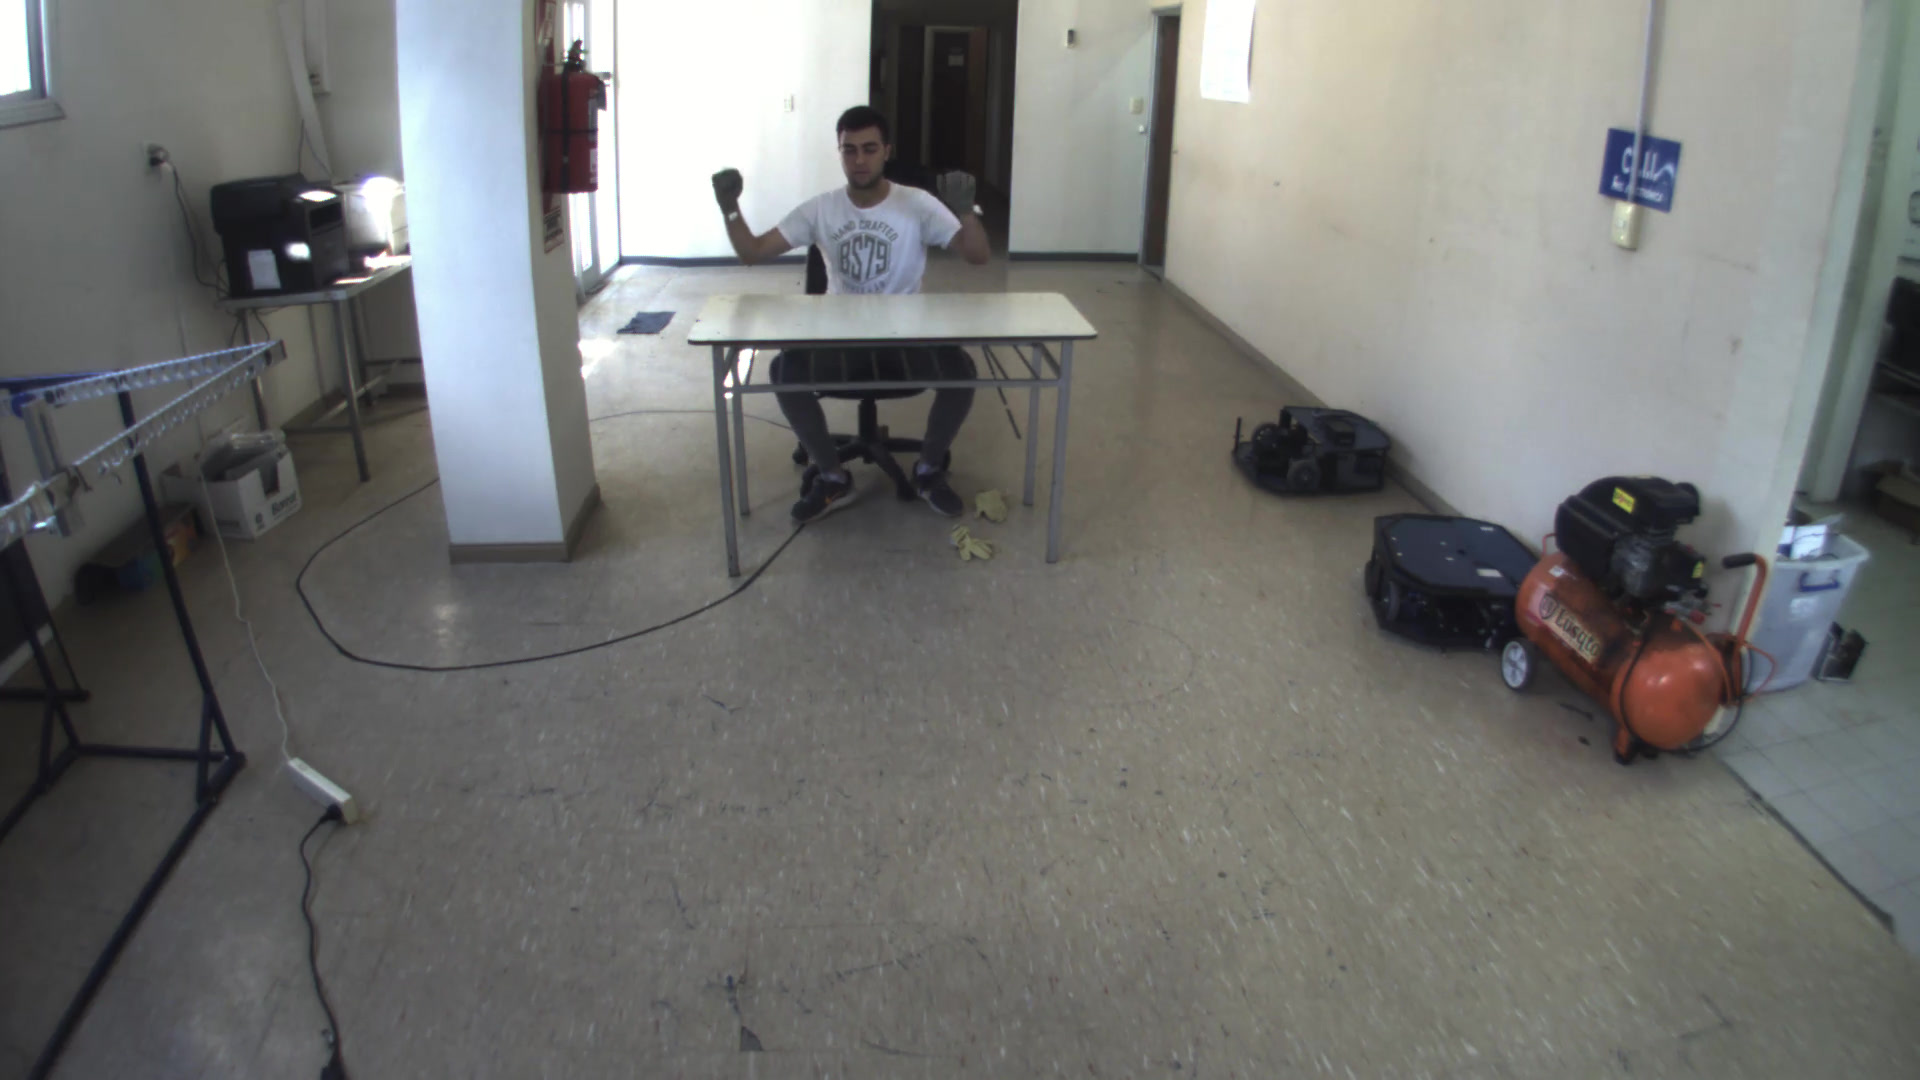hand: (702, 157, 754, 220), (931, 166, 989, 220)
